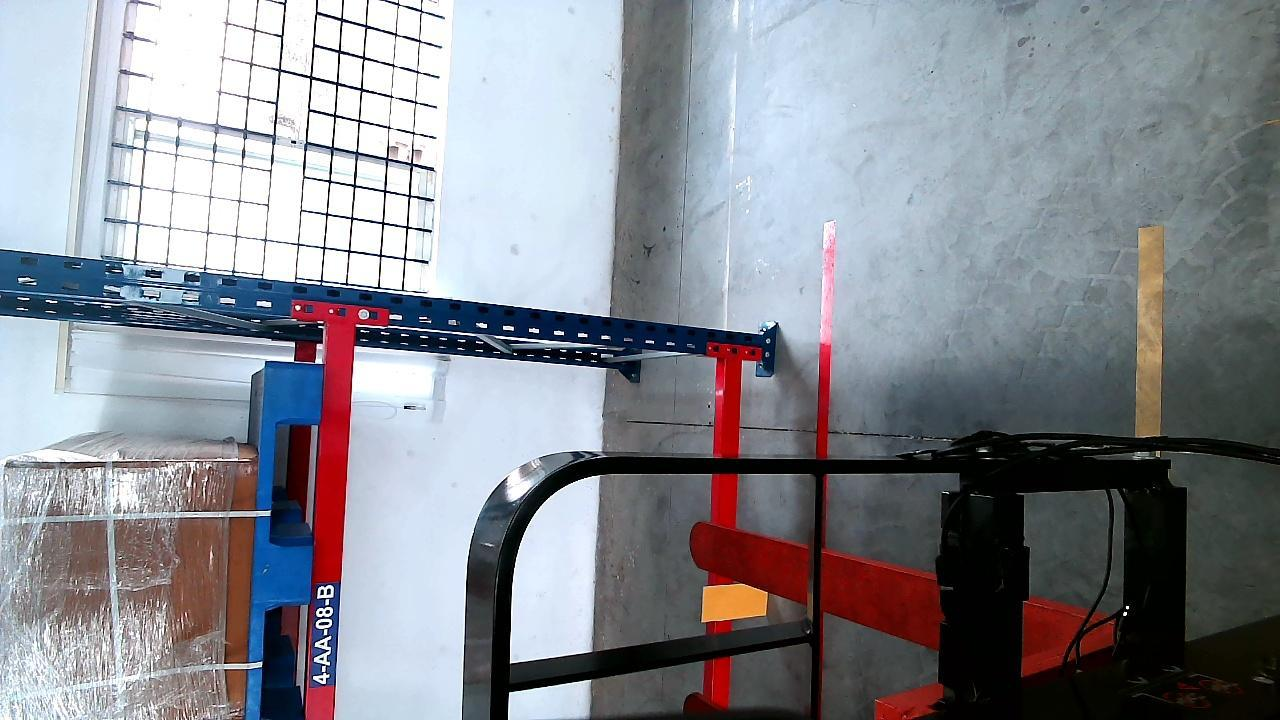red_line: (815, 223, 836, 467)
yellow_line: (1137, 220, 1162, 439)
